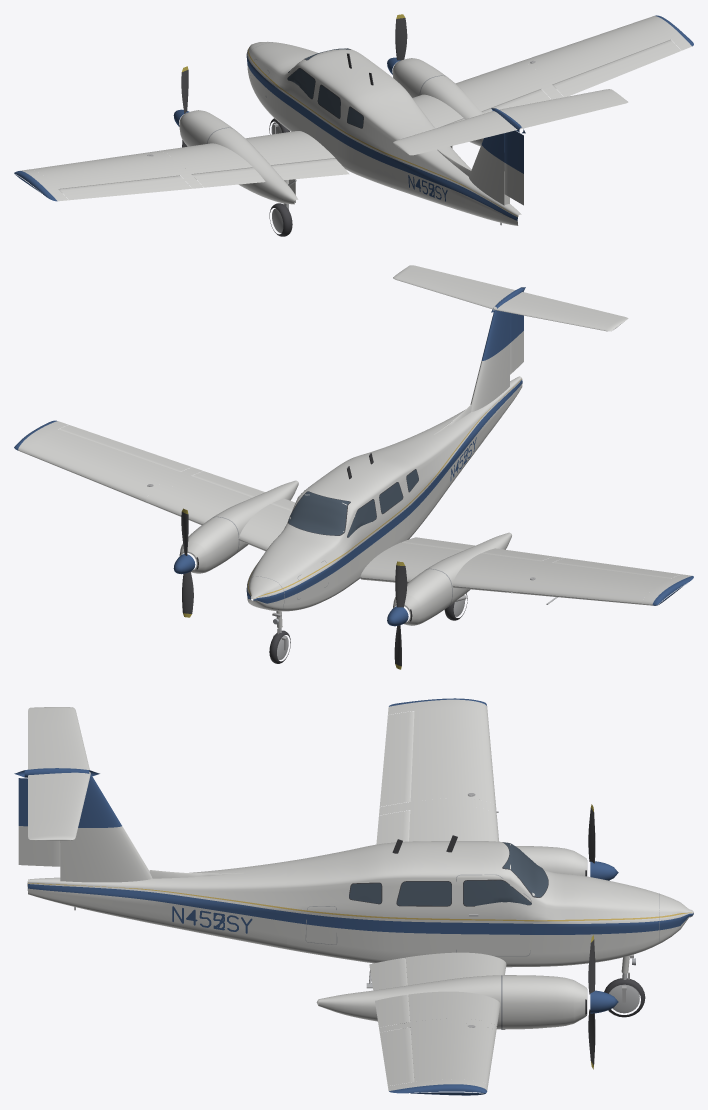
File: seminole.glb
3 views of the same model, one above another, from view 1: azimuth 30°, elevation 25°; view 2: azimuth 150°, elevation 25°; view 3: azimuth 270°, elevation 25° (orthographic). The views are drawn at different scales.
Visible parts, largest first — view 1: body, cabin, stab, flapL, ailR, ailL, rud, gearL, prop.1, flapR, prop.0; view 2: body, cabin, stab, ailR, prop.1, prop.0, flapL, flapR, ailL, rud, gearN; view 3: body, cabin, stab, ailL, flapR, rud, ailR, gearN, prop.1, flapL, prop.0.
Boxes of the visible parts, x1,y1,x2,y2 form: body: (14, 15, 693, 225); cabin: (246, 41, 434, 188); stab: (393, 89, 628, 155); flapL: (192, 158, 349, 187); ailR: (553, 40, 680, 97); ailL: (59, 176, 191, 200); rud: (504, 130, 523, 205); gearL: (269, 179, 296, 236); prop.1: (387, 14, 407, 74); flapR: (447, 89, 550, 124); prop.0: (173, 66, 189, 147); body: (14, 287, 693, 625); cabin: (246, 442, 440, 611); stab: (393, 265, 628, 331); ailR: (59, 425, 191, 471); prop.1: (173, 508, 195, 617); prop.0: (387, 561, 408, 669); flapL: (402, 537, 553, 561); flapR: (192, 471, 295, 510); ailL: (553, 558, 680, 578); rud: (510, 313, 523, 374); gearN: (269, 611, 290, 663); body: (14, 698, 587, 1095); cabin: (287, 835, 693, 967); stab: (28, 707, 90, 840); ailL: (379, 711, 414, 806); flapR: (369, 958, 410, 1027); rud: (18, 778, 60, 866); ailR: (379, 1027, 414, 1086); gearN: (604, 954, 645, 1017); prop.1: (588, 935, 618, 1069); flapL: (376, 810, 410, 844); prop.0: (588, 804, 618, 880).
Size of the model in its own units: 11.78 by 3.49 by 8.67.
